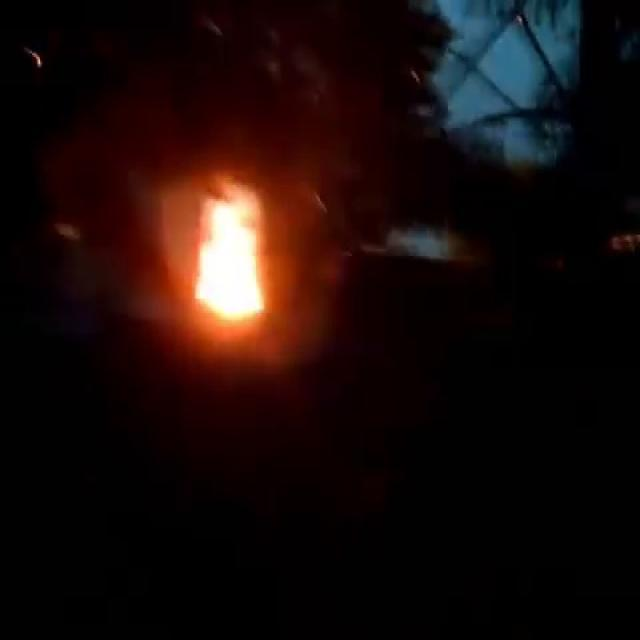Fire: (183, 172, 280, 336)
